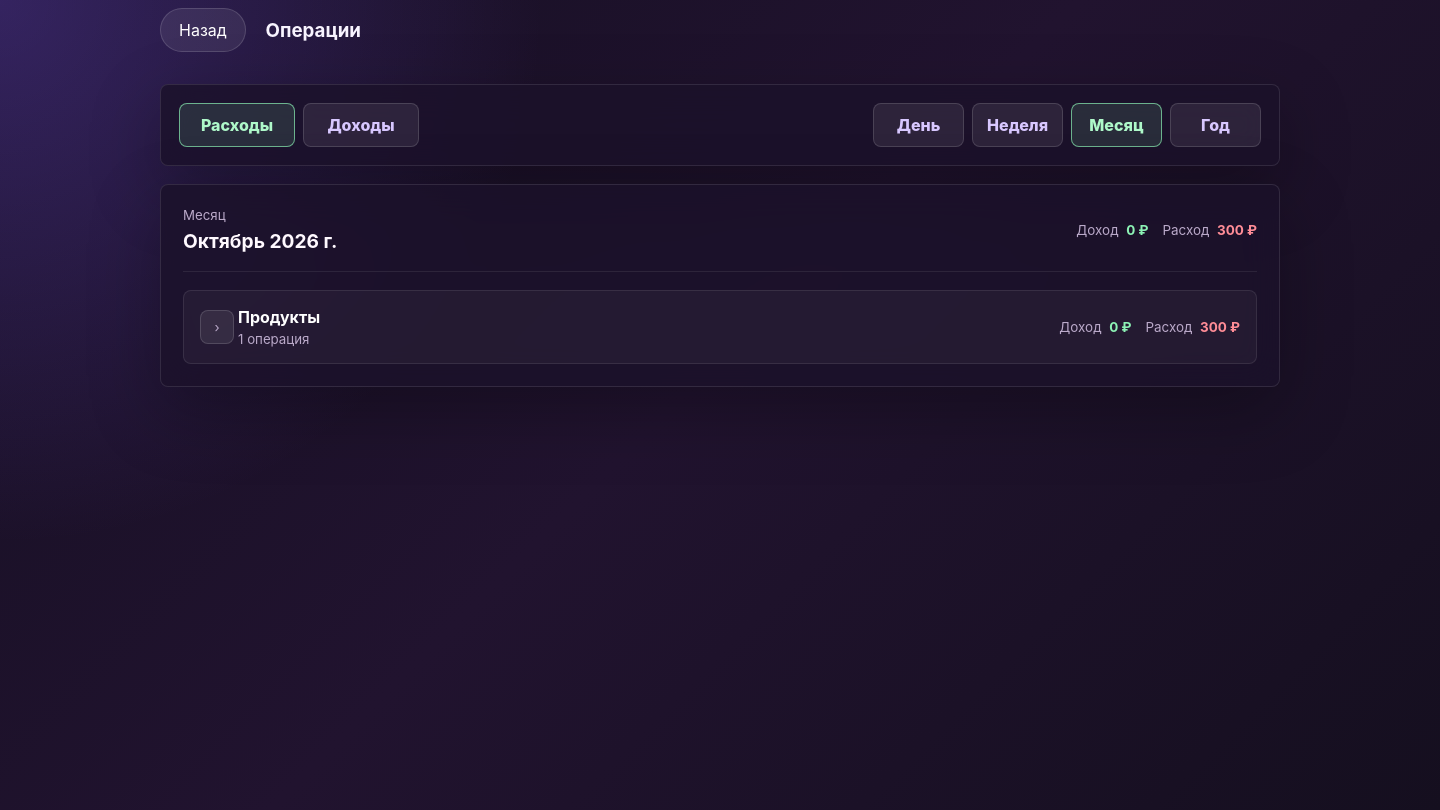
Test: OperationsPage › shows operations immediately for a category with one subcategory
Expected: the text "Хлеб" is not shown
Click the button named "Показать Продукты" at (217, 327), box [200,310,234,344]
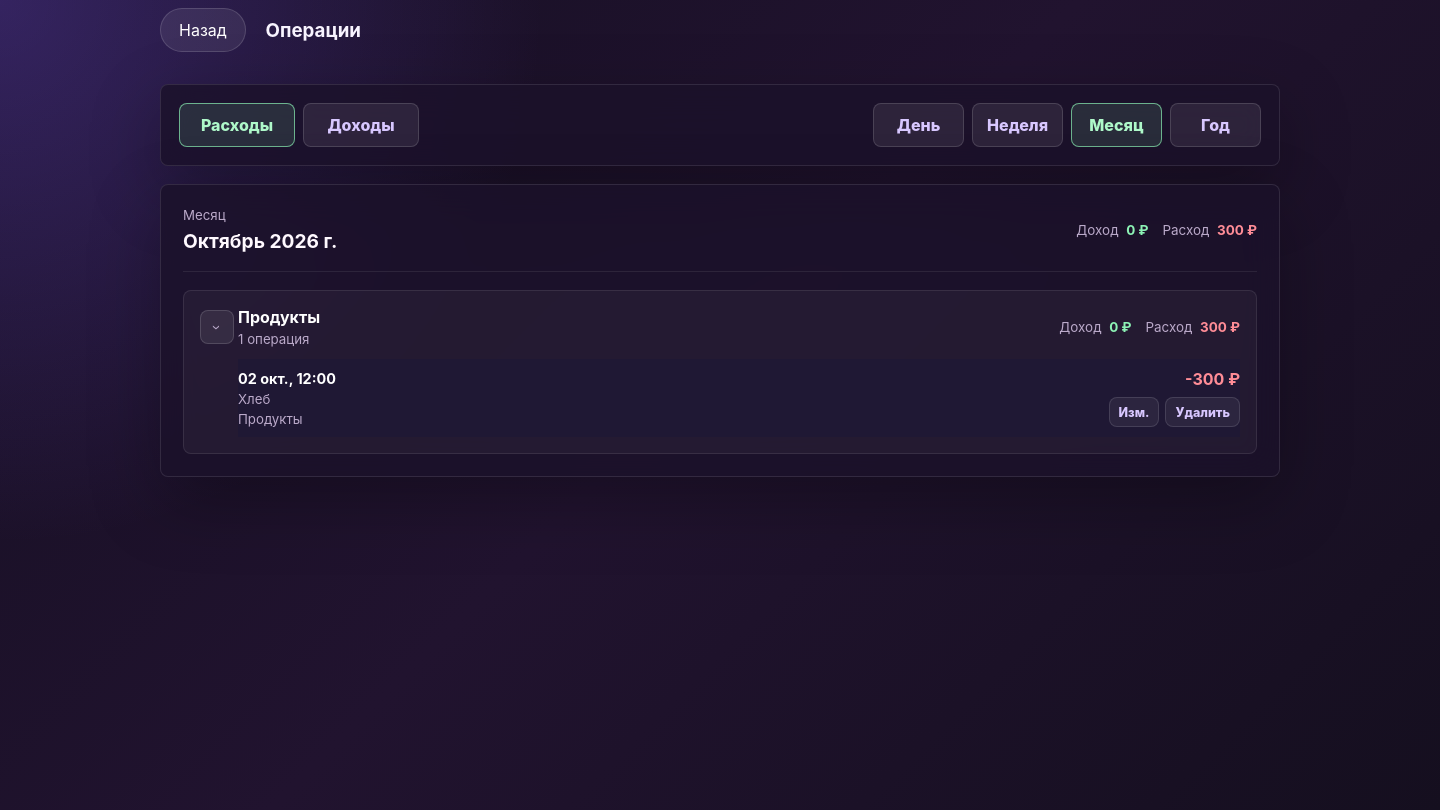
Expected: the text "Хлеб" is shown, [238,391,270,407]
